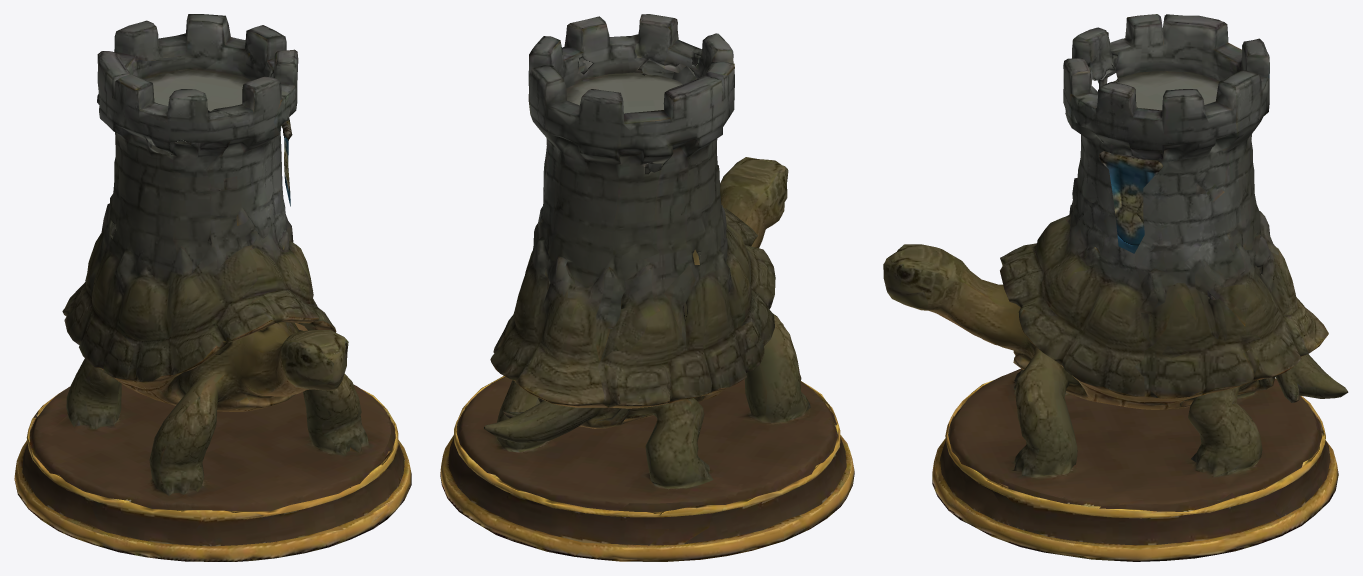
File: trellis-rook-ally.glb
The picture shows the model from 3 angles, left to right: view 1: azimuth 30°, elevation 25°; view 2: azimuth 150°, elevation 25°; view 3: azimuth 270°, elevation 25°; orthographic projection. The views are drawn at different scales.
Visible parts, largest first — view 1: world; view 2: world; view 3: world.
Part boxes in pixels (<box>): world: <box>14,14,411,561</box>; world: <box>440,14,854,561</box>; world: <box>883,14,1348,561</box>.
Size of the model in its own units: 0.8711 by 0.9993 by 0.9979.
1 material, 1 textured.
